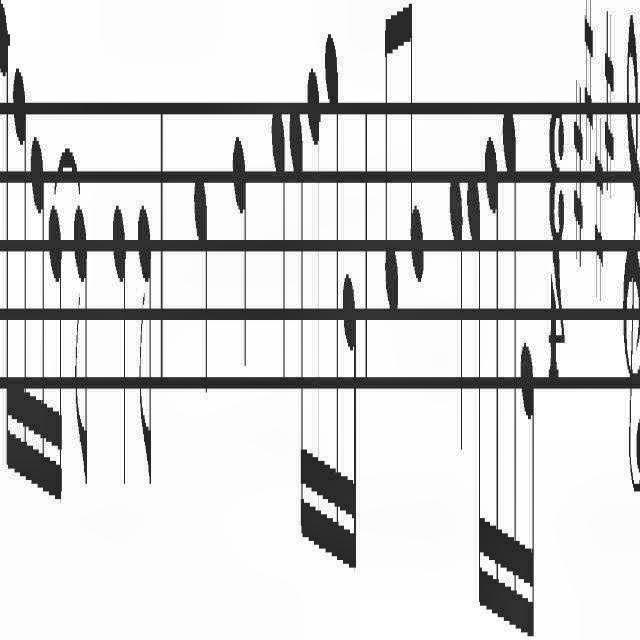Bass-clef: (623, 0, 640, 560), (639, 0, 640, 560)
Diez: (602, 3, 616, 201), (592, 104, 604, 298), (584, 0, 598, 164), (573, 72, 583, 268)
Eighth-note: (382, 0, 402, 350), (134, 180, 154, 528), (407, 0, 425, 308), (72, 185, 88, 500)
Quarter-note: (270, 67, 288, 451), (112, 188, 132, 514), (448, 158, 468, 480), (230, 125, 250, 388), (194, 148, 210, 462)
Sixteenth-note: (502, 86, 522, 638), (323, 24, 342, 576), (306, 46, 322, 588), (467, 162, 485, 614), (486, 123, 502, 612), (290, 82, 306, 554), (343, 251, 363, 621), (13, 63, 29, 485), (29, 128, 47, 500), (520, 312, 540, 640), (46, 197, 64, 523), (0, 0, 12, 488)
